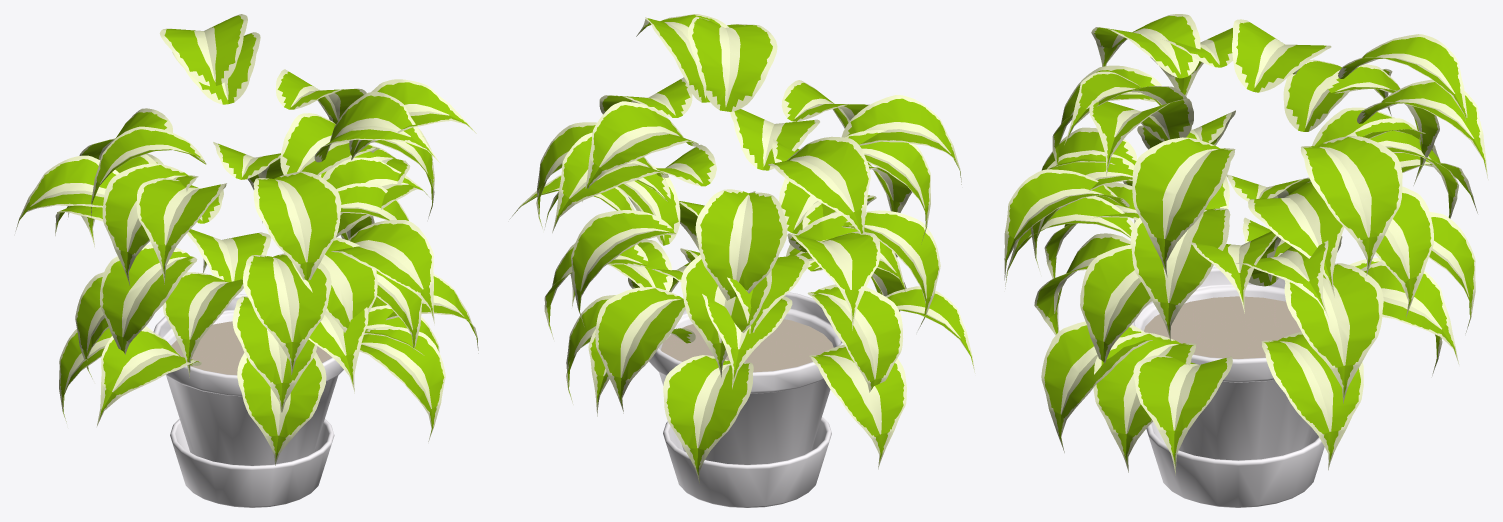
The model's file is indoor_plant.glb.
The picture shows the model from 3 angles, left to right: view 1: azimuth 30°, elevation 25°; view 2: azimuth 150°, elevation 25°; view 3: azimuth 270°, elevation 25°; orthographic projection. The views are drawn at different scales.
Visible parts, largest first — view 1: Mesh1_FrontColor_0; view 2: Mesh1_FrontColor_0; view 3: Mesh1_FrontColor_0.
Boxes of the visible parts, x1,y1,x2,y2 form: Mesh1_FrontColor_0: (15,14,478,507); Mesh1_FrontColor_0: (509,14,975,507); Mesh1_FrontColor_0: (1004,14,1488,507).
Size of the model in its own units: 1.08 by 1.06 by 1.04.
1 material, 1 textured.
